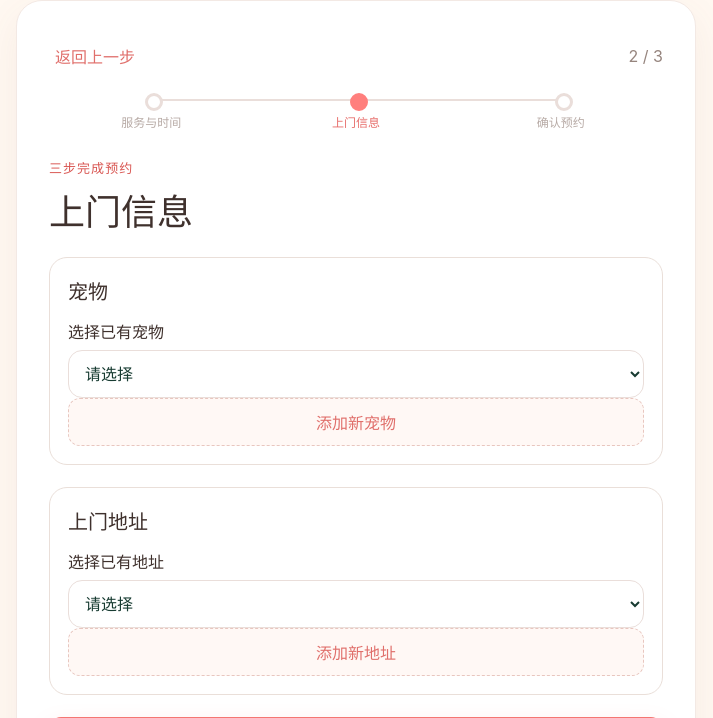
BookingFlow › uses new-resource fields only when the user asks to add them
This screenshot has width=713, height=718.
Check: the field labelled "宠物昵称" is not shown
Click the button "添加新宠物".
click(356, 422)  # box [68,398,644,446]
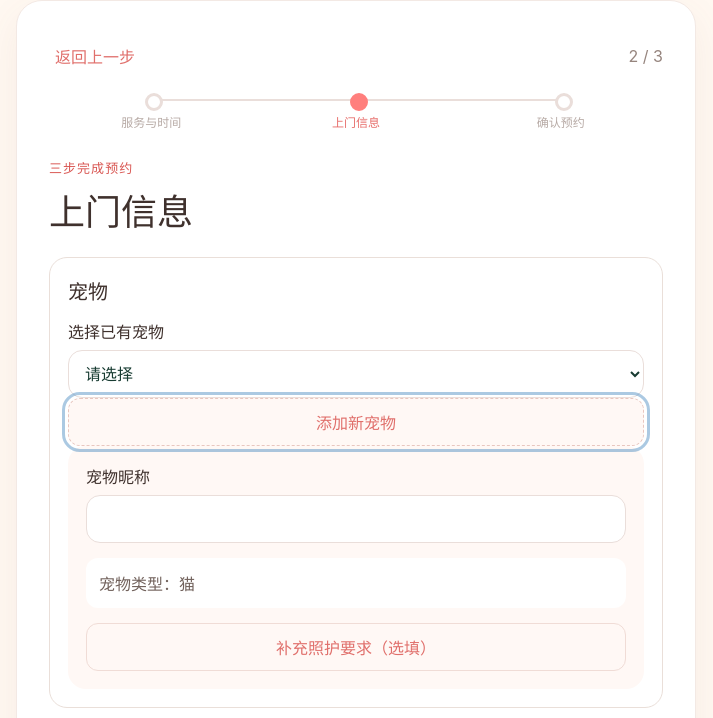
Check: the field labelled "宠物昵称" is shown, box [86,495,626,543]
Check: the button "补充照护要求（选填）" is shown, box [86,623,626,671]
